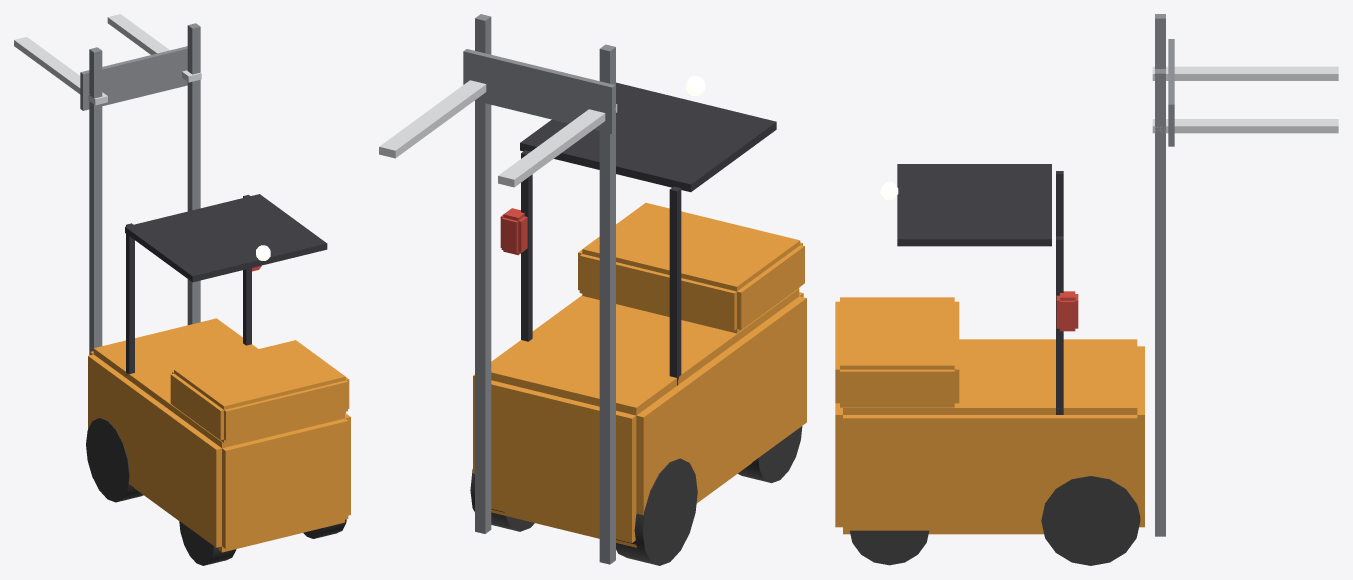
File: forklift.glb
3 renders of one model, left to right at view 1: azimuth 30°, elevation 25°; view 2: azimuth 150°, elevation 25°; view 3: azimuth 270°, elevation 25°, orthographic. The views are drawn at different scales.
Visible parts, largest first — view 1: forklift; view 2: forklift; view 3: forklift.
Boxes of the visible parts, box(x1,y1,x2,y2) form: forklift: box(14, 14, 350, 565); forklift: box(379, 14, 806, 565); forklift: box(835, 14, 1338, 565).
Size of the model in its own units: 1.2 by 3.45 by 3.25.
